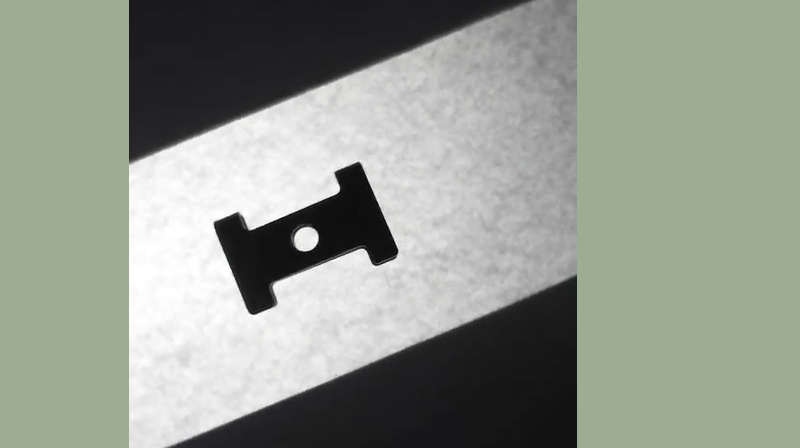O002: (208, 157, 400, 317)
